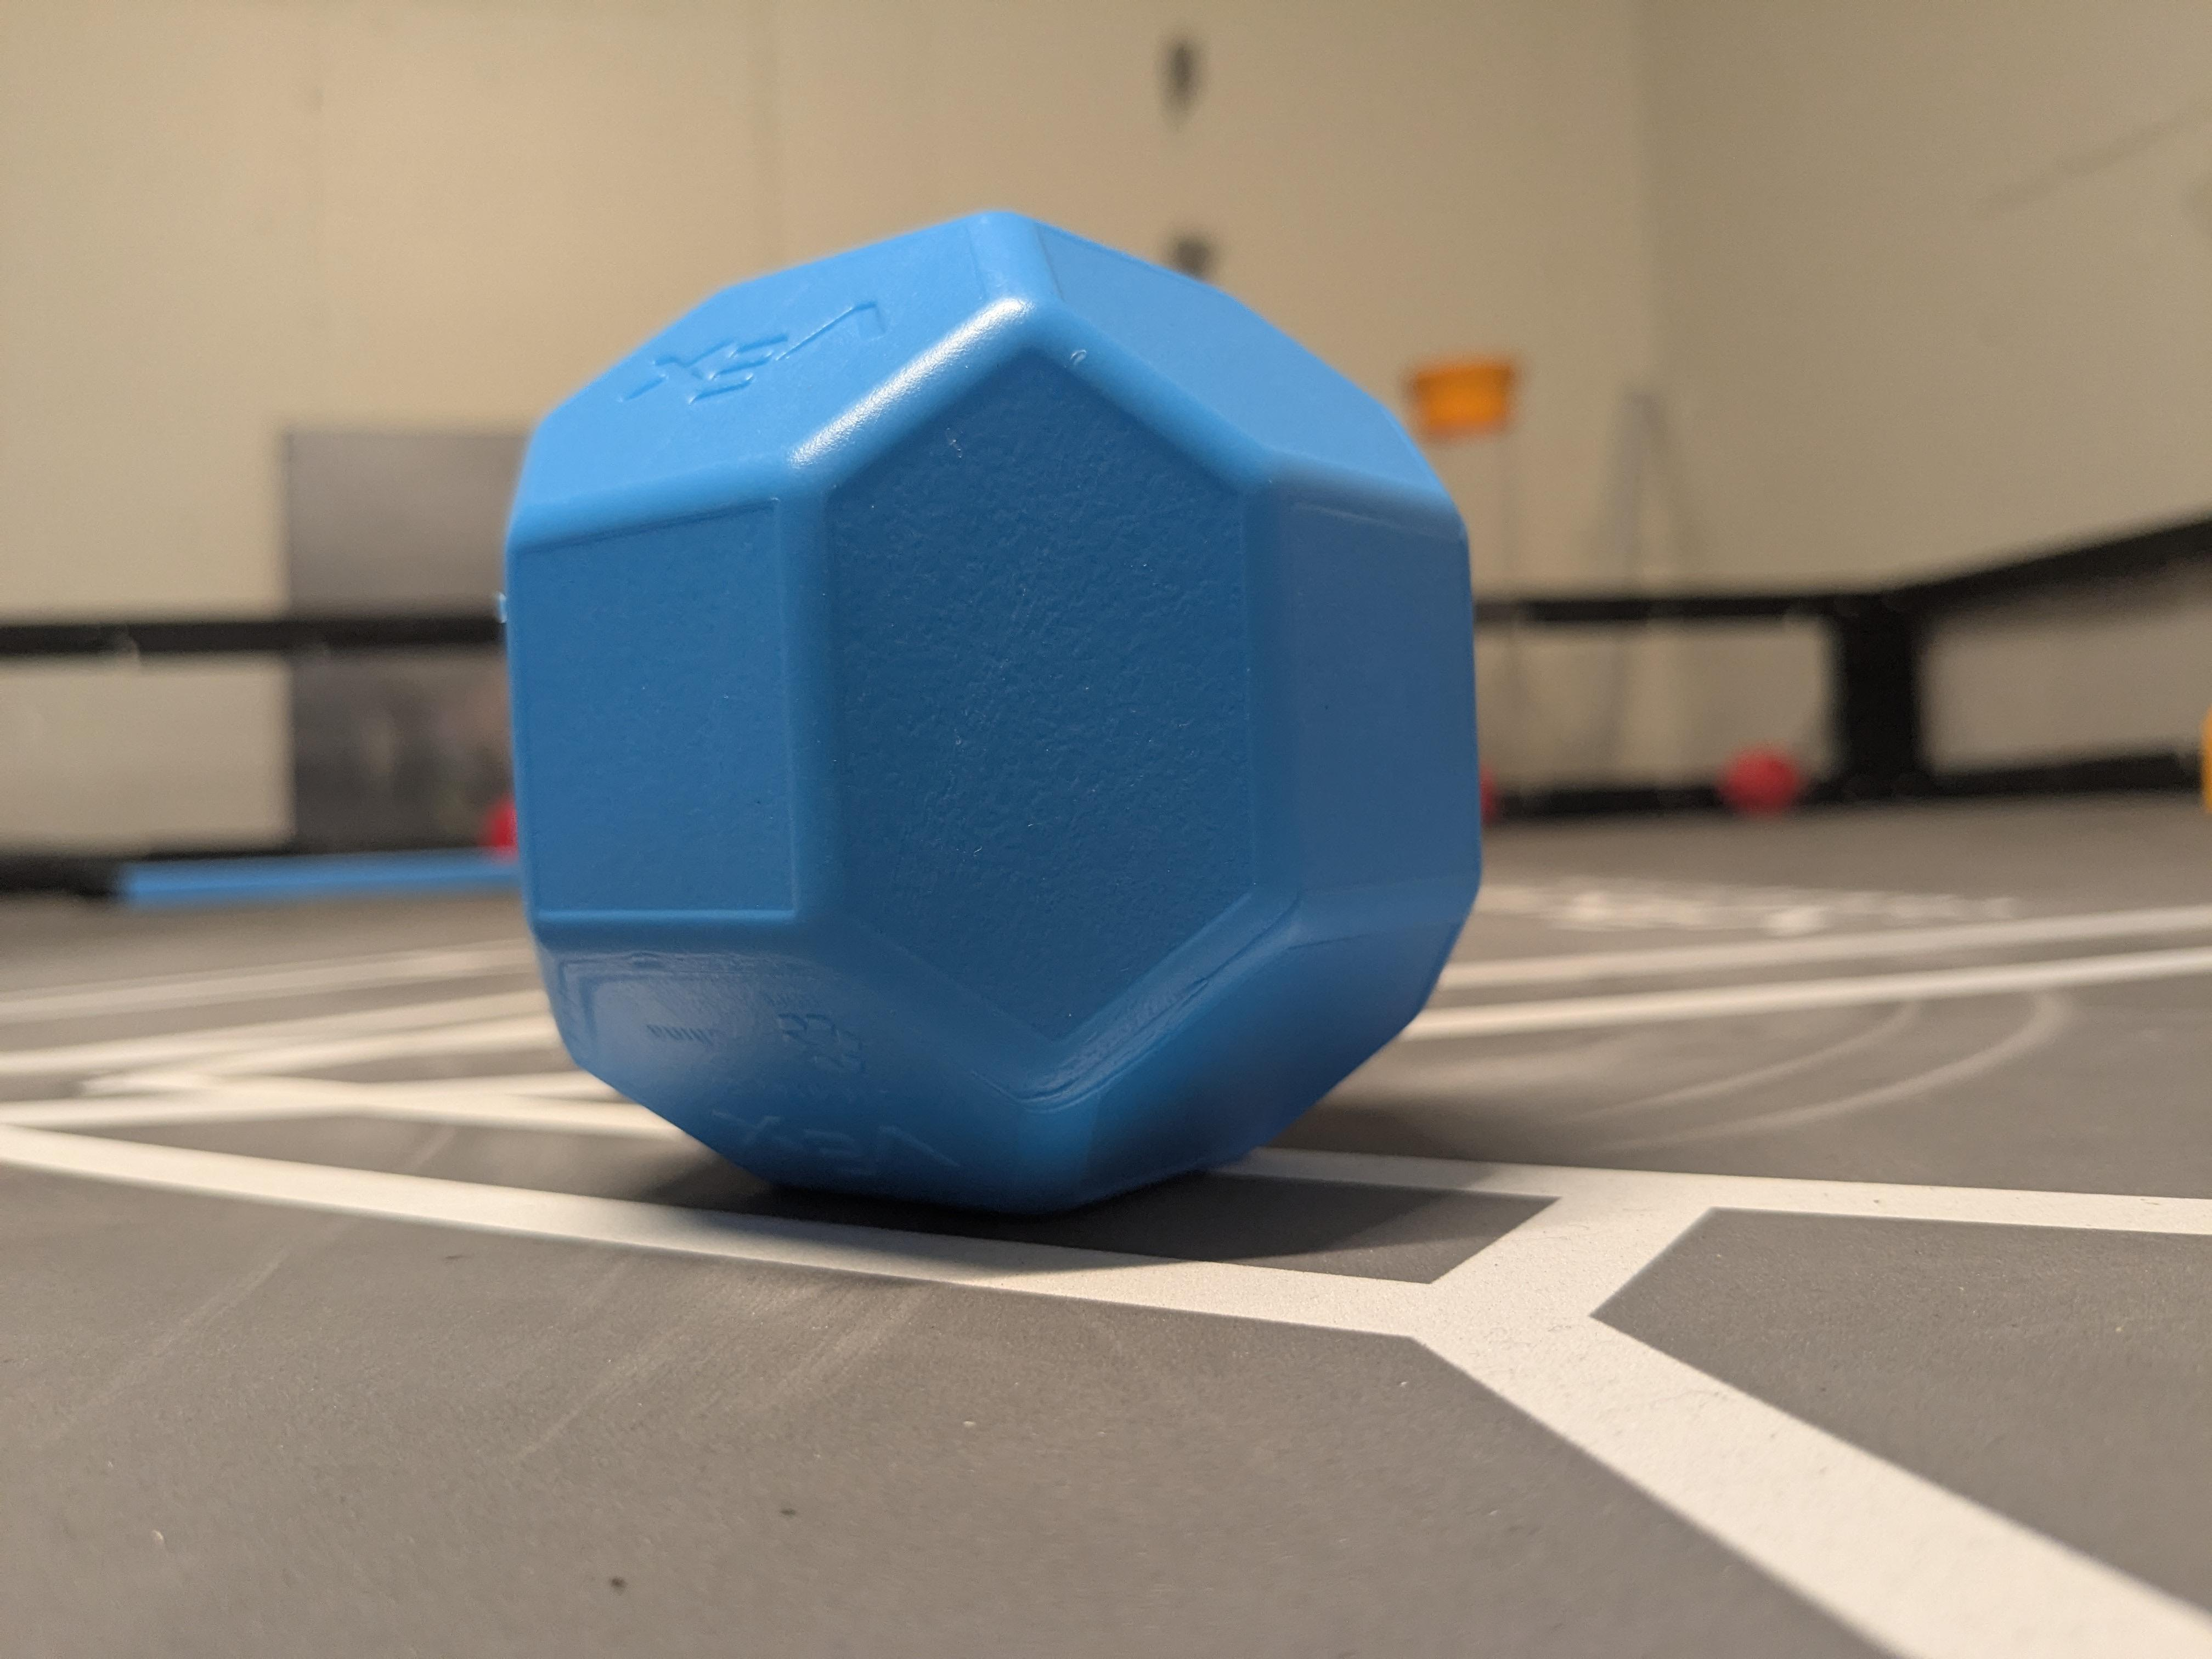Vex-Pieces-BLUE: (502, 213, 1479, 1211)
